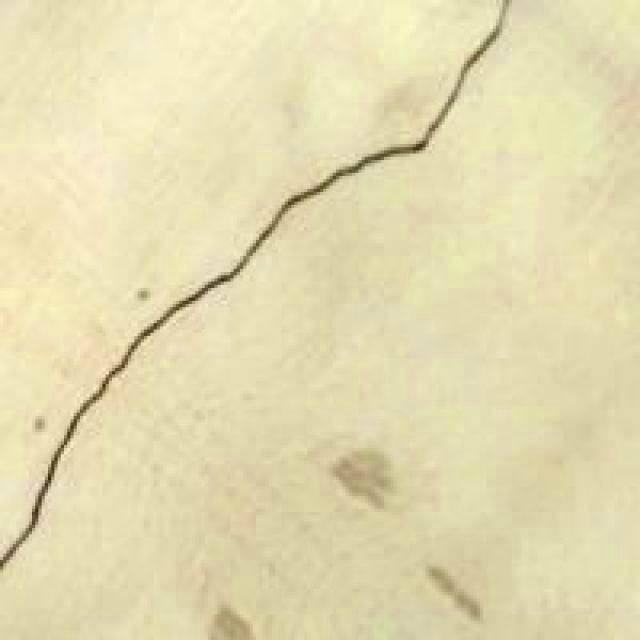crack: (0, 0, 536, 578)
